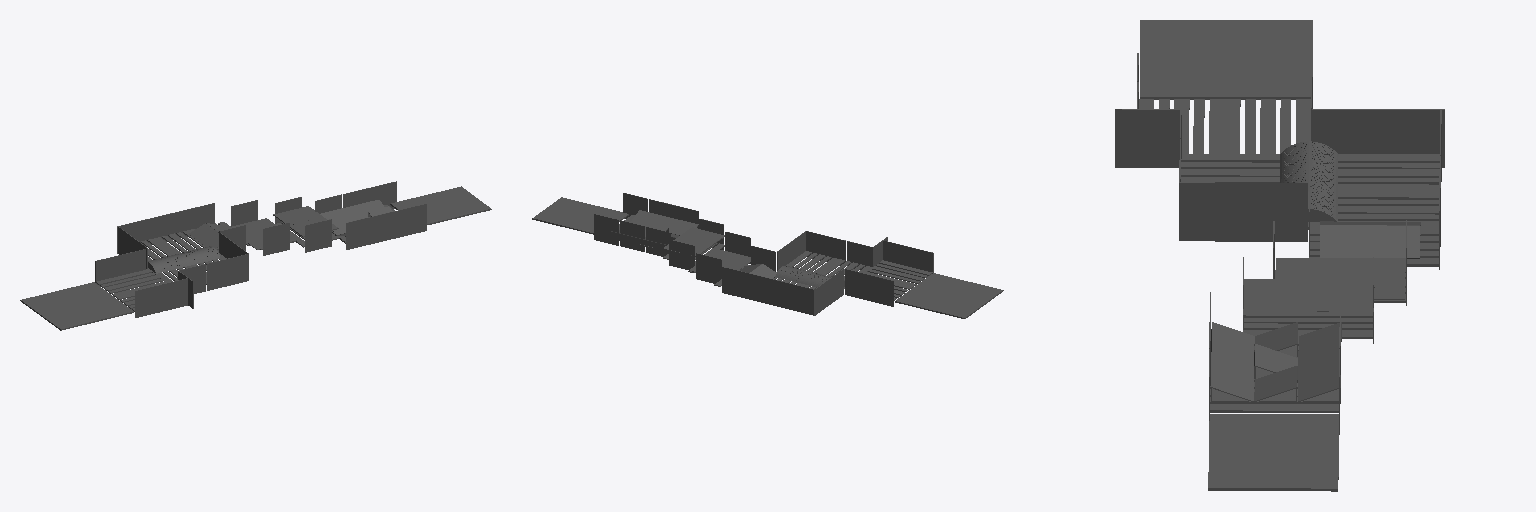
robot.urdf — ICRA_parkour_5:
<?xml version="1.0" ?>
<robot name="ICRA_parkour_5" xmlns:xacro="http://ros.org/wiki/xacro">
  <link name="base_link">
    <inertial>
      <mass value="200" />
      <inertia ixx="1.0" ixy="0.0" ixz="0.0" iyy="1.0" iyz="0.0" izz="1.0" />
    </inertial>
    <visual>
      <origin rpy="0 0 0" xyz="0 0 0"/>
      <geometry>
        <mesh filename="package://meshes/ICRA_parkour_5.stl"/>
      </geometry>
      <material name="">
        <color rgba="0.4 0.4 0.4 1.0"/>
      </material>
    </visual>
    <collision concave="yes">
      <origin rpy="0 0 0" xyz="0 0 0"/>
      <geometry>
        <mesh filename="package://meshes/ICRA_parkour_5.stl"/>
      </geometry>
    </collision>
  </link>
  <gazebo>
    <static>1</static>
  </gazebo>
</robot>

--- Facts derived from the render (not from the file) ---
Views: 3 orthographic renders of the robot side by side, from view 1: azimuth 30°, elevation 25°; view 2: azimuth 150°, elevation 25°; view 3: azimuth 270°, elevation 25°.
Model ICRA_parkour_5 with 1 links and 0 joints (none), rooted at base_link, posed every joint at zero.
Visible links, largest first — view 1: base_link; view 2: base_link; view 3: base_link.
Boxes of the visible links, x1=… form: base_link: x1=20, y1=181, x2=491, y2=330; base_link: x1=532, y1=193, x2=1003, y2=318; base_link: x1=1115, y1=20, x2=1444, y2=491.
Bounding box of the posed robot: 10.22 × 3.04 × 0.595 m (x, y, z).
1 mesh visuals loaded from 1 distinct referenced files (1 binary STL).